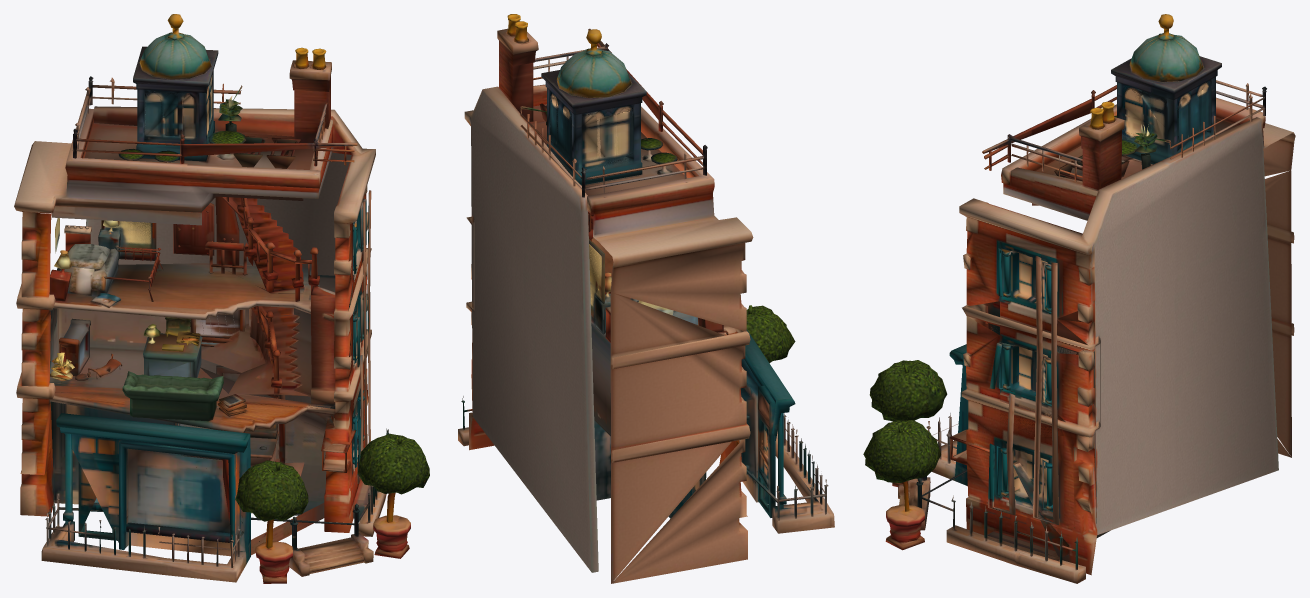
Rendered from tier3-lv14.glb.
The picture shows the model from 3 angles, left to right: view 1: azimuth 30°, elevation 25°; view 2: azimuth 150°, elevation 25°; view 3: azimuth 270°, elevation 25°; orthographic projection. The views are drawn at different scales.
Visible parts, largest first — view 1: tripo_node_f35ee85e-8488-42f9-ac4c-a24492270664; view 2: tripo_node_f35ee85e-8488-42f9-ac4c-a24492270664; view 3: tripo_node_f35ee85e-8488-42f9-ac4c-a24492270664.
Boxes of the visible parts, <box> form: tripo_node_f35ee85e-8488-42f9-ac4c-a24492270664: <box>14,14,429,583</box>; tripo_node_f35ee85e-8488-42f9-ac4c-a24492270664: <box>458,14,834,583</box>; tripo_node_f35ee85e-8488-42f9-ac4c-a24492270664: <box>863,14,1295,583</box>.
Bounding box in the file's own units: 0.795 × 0.998 × 0.8112.
1 material, 1 textured.
